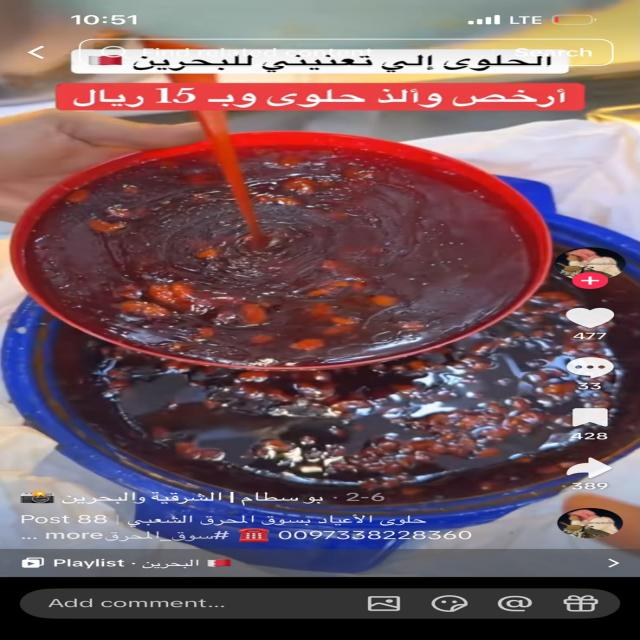Halwa: (13, 130, 640, 502)
